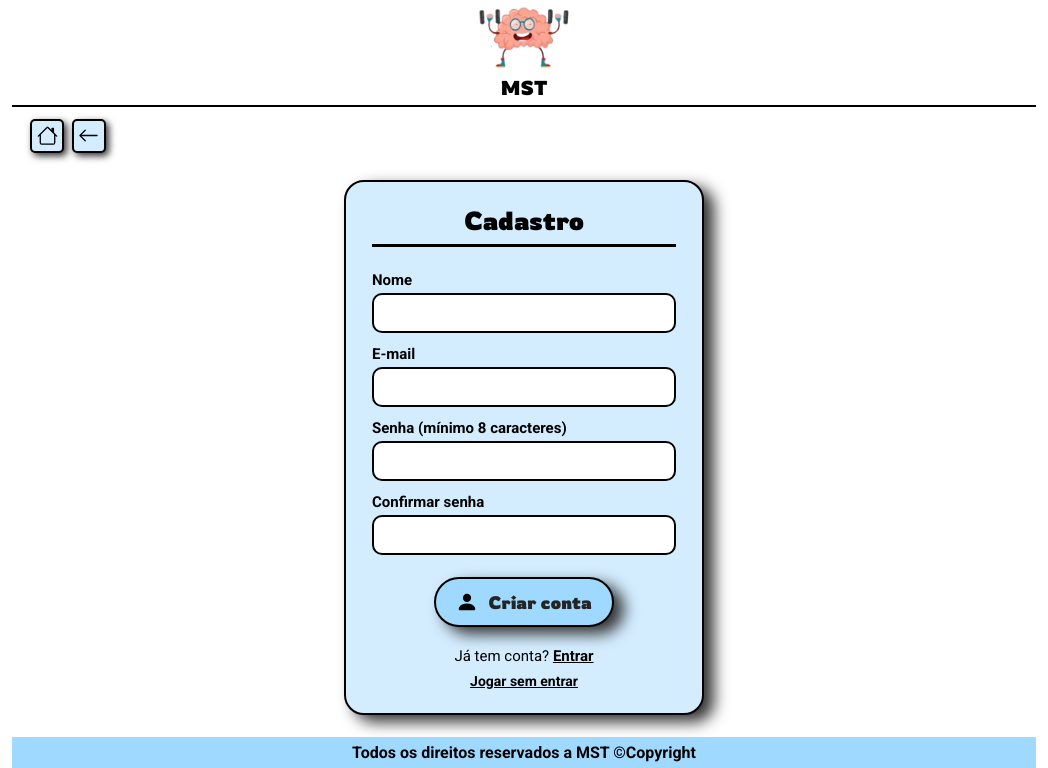
Scenario: telas de Entrar e Cadastro › cadastro com e-mail repetido marca o campo
Type "Maria" into the field labelled "Nome" at coordinates (524, 313), box x1=372 y1=293 x2=676 y2=333
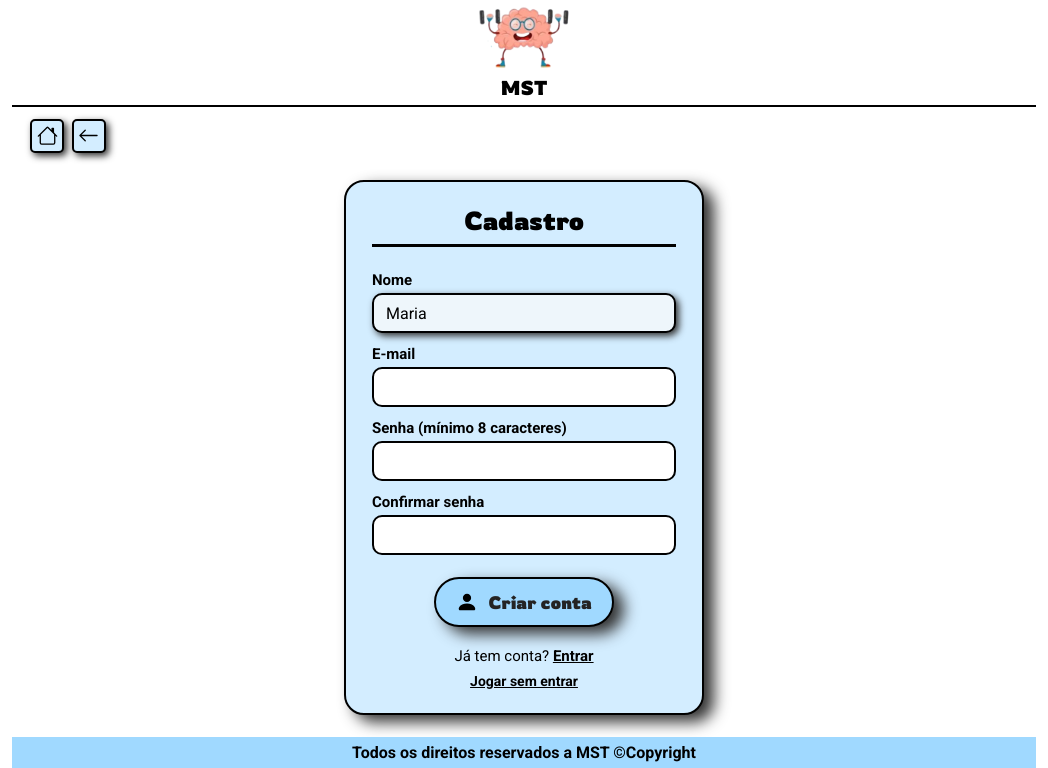
Type "maria@mst.com" into the field labelled "E-mail" at coordinates (524, 387), box x1=372 y1=367 x2=676 y2=407
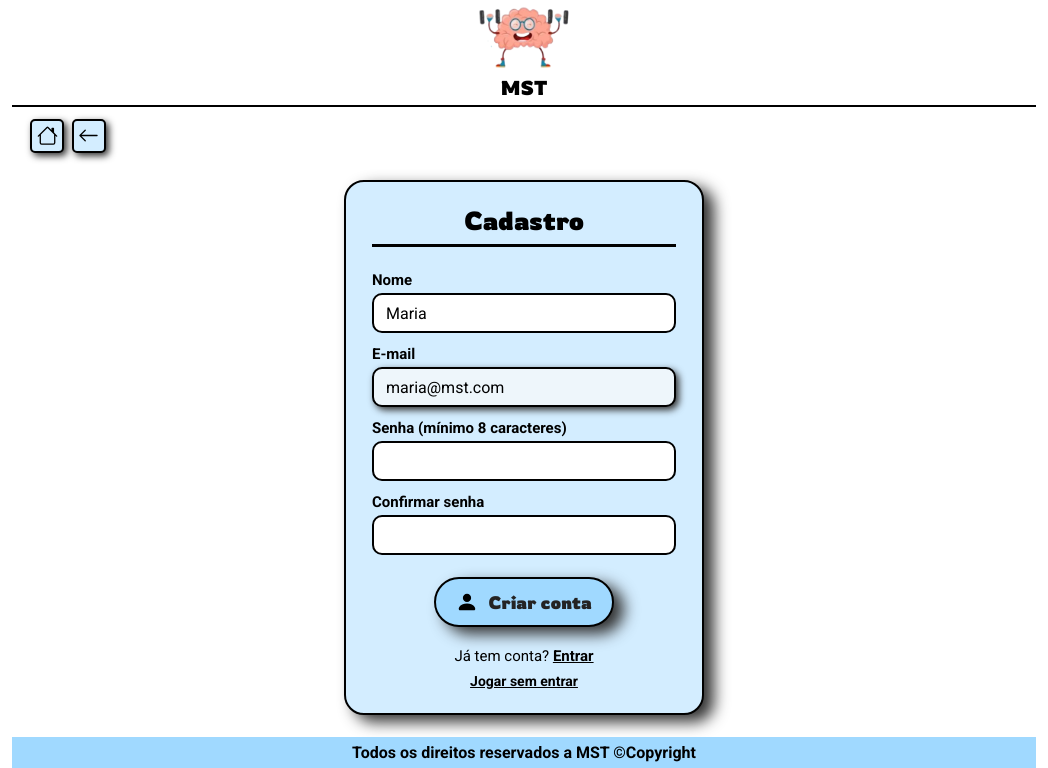
Type "segredo123" into the password field labelled "Senha (mínimo 8 caracteres)" at coordinates (524, 461), box x1=372 y1=441 x2=676 y2=481
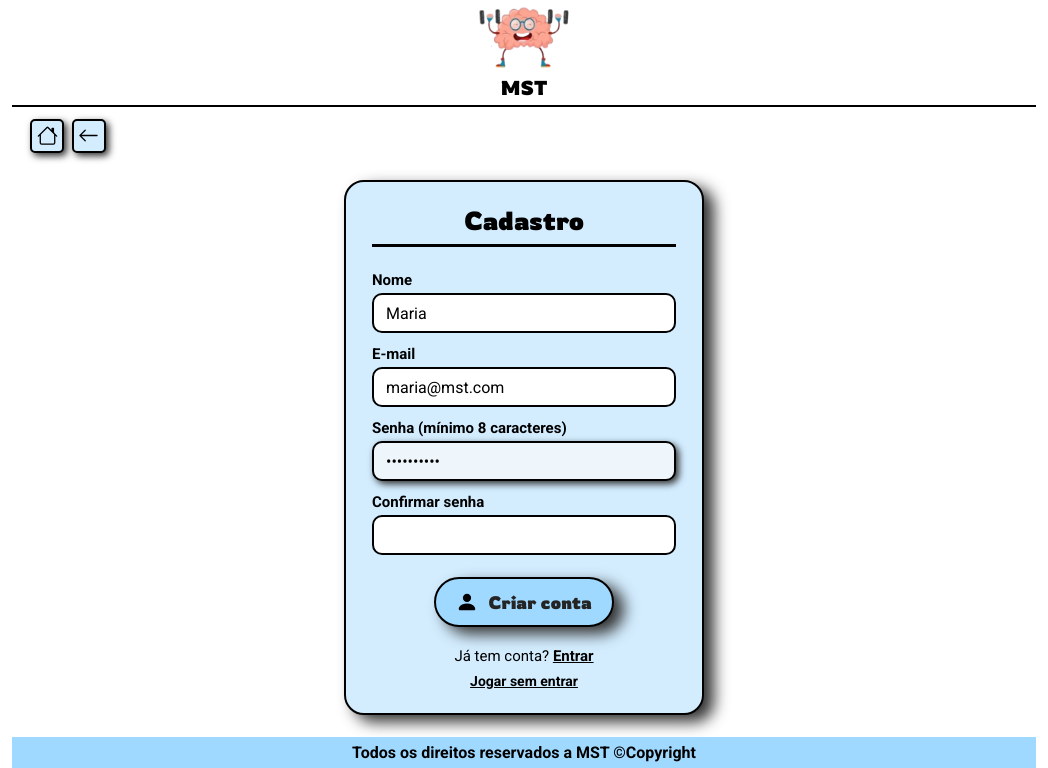
Type "segredo123" into the password field labelled "Confirmar senha" at coordinates (524, 535), box x1=372 y1=515 x2=676 y2=555
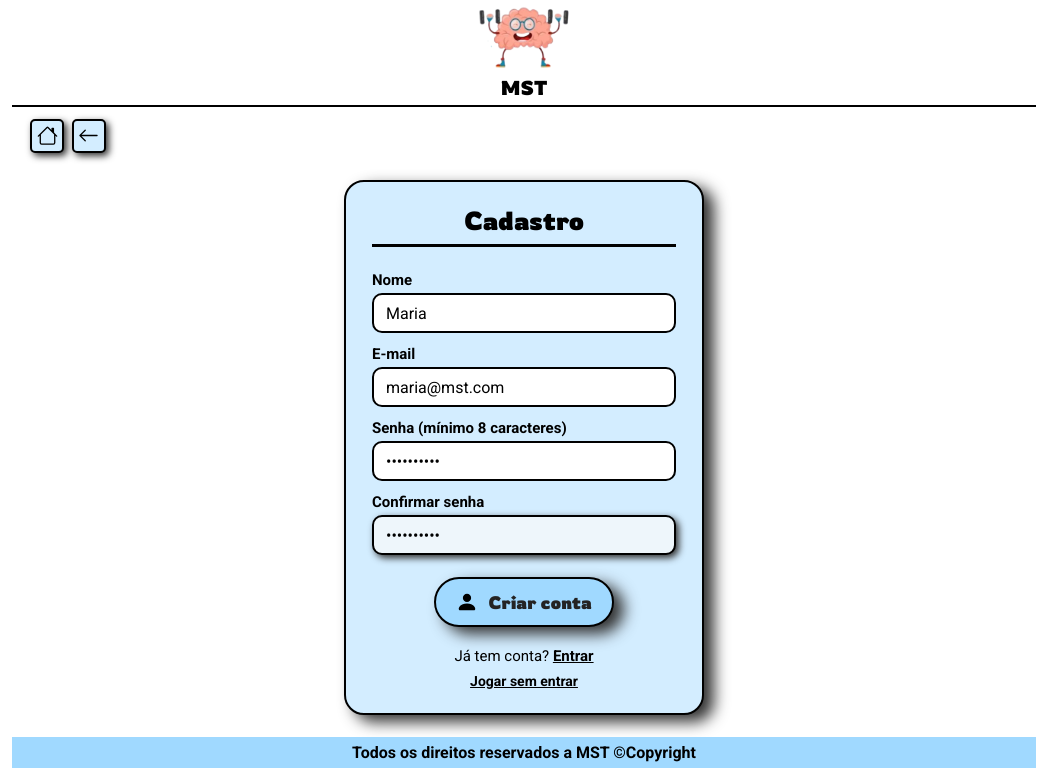
Click the button "Criar conta" at coordinates (524, 602), box x1=434 y1=577 x2=614 y2=627
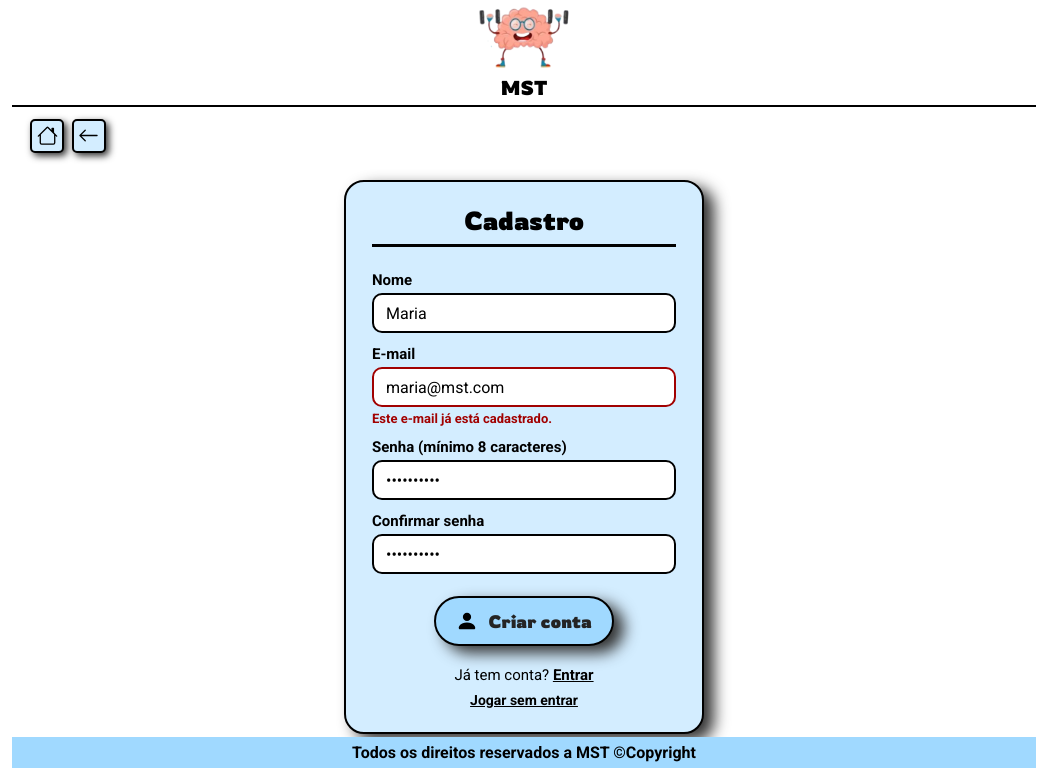
Expected: the text "Este e-mail já está cadastrado." is shown, x1=372 y1=411 x2=552 y2=426
